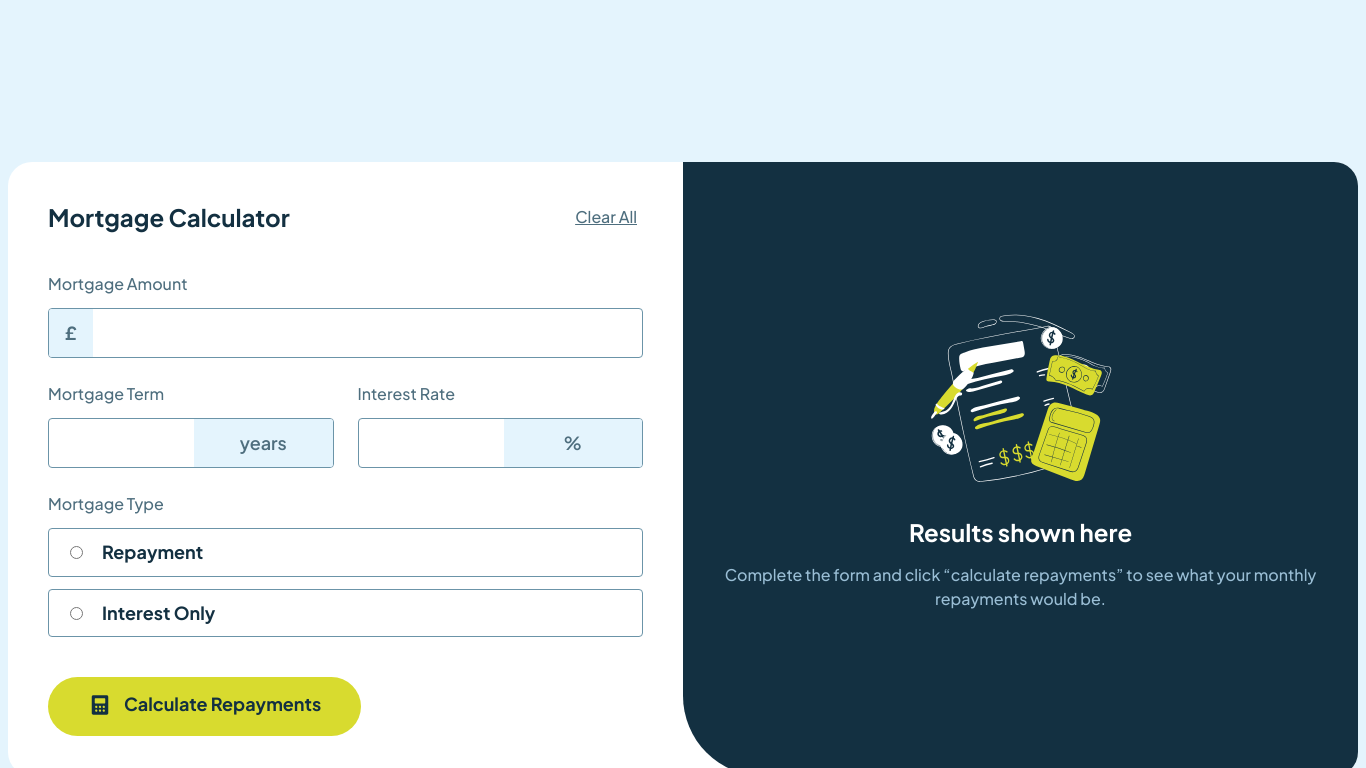
Test: CalculatorComponent › should reset form data
This screenshot has width=1366, height=768.
Type "123" into the number field with test id "calculator-mortgageAmount".
click(368, 333); type("123")  # box [93,322,642,344]
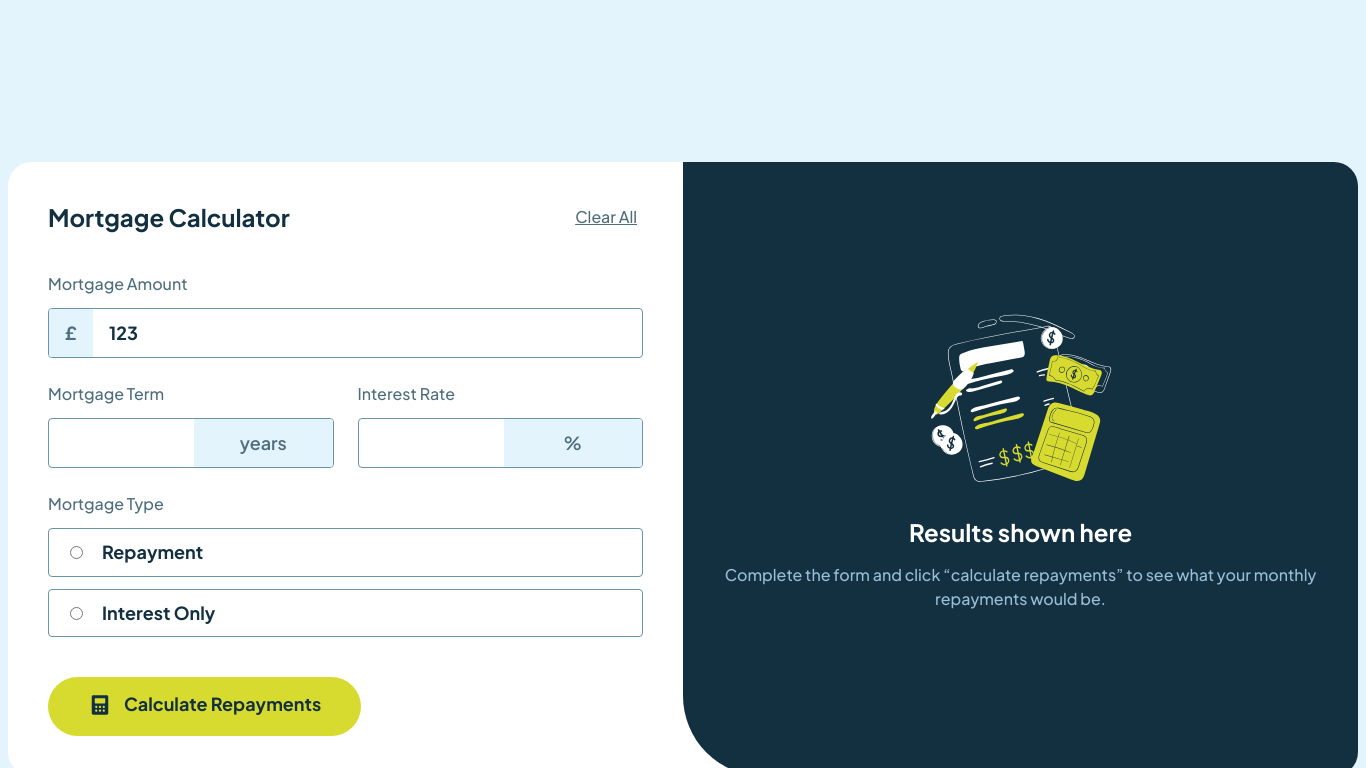
Type "123" into the number field with test id "calculator-mortgageTerm".
click(122, 443); type("123")  # box [49,432,194,454]
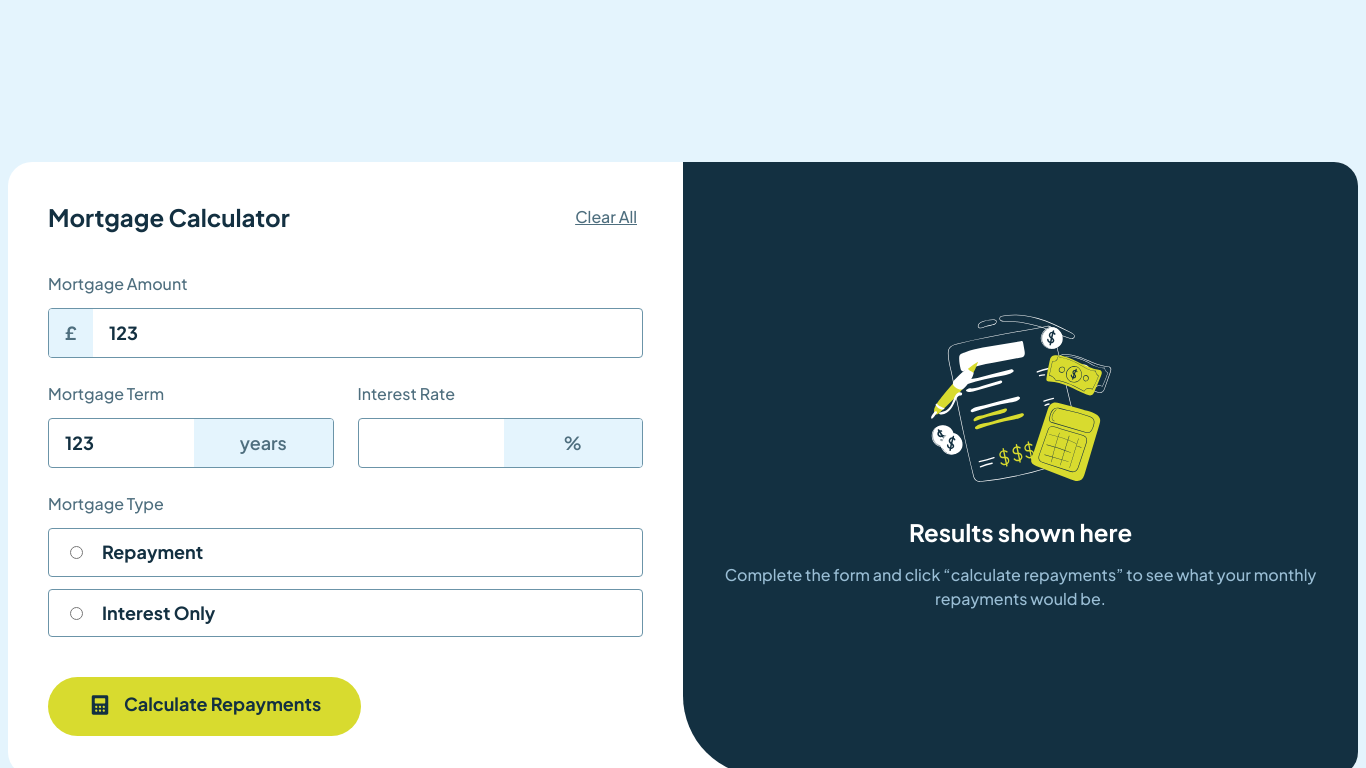
Type "123" into the number field with test id "calculator-interestRate".
click(431, 443); type("123")  # box [358,432,504,454]
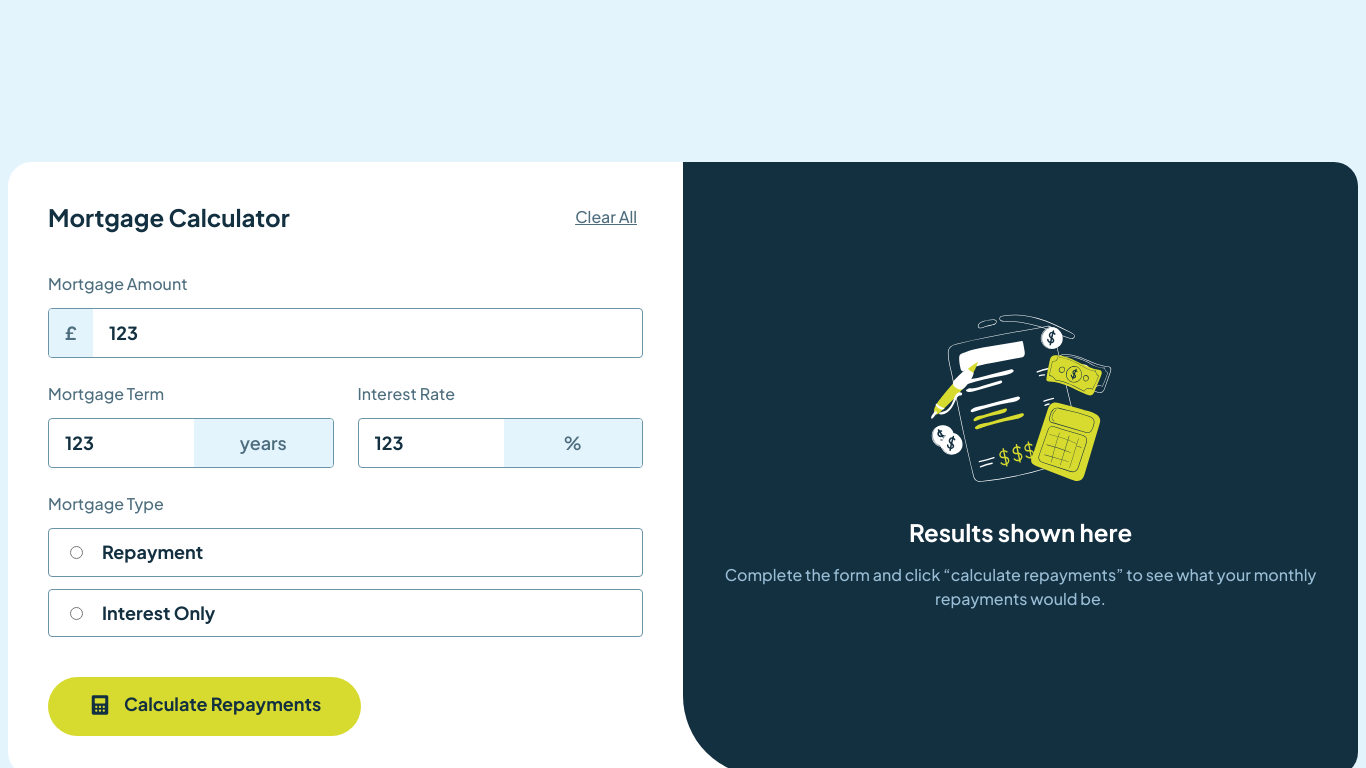
Click the radio button with test id "calculator-mortgageType-repayment".
click(76, 552)  # box [70,546,83,559]
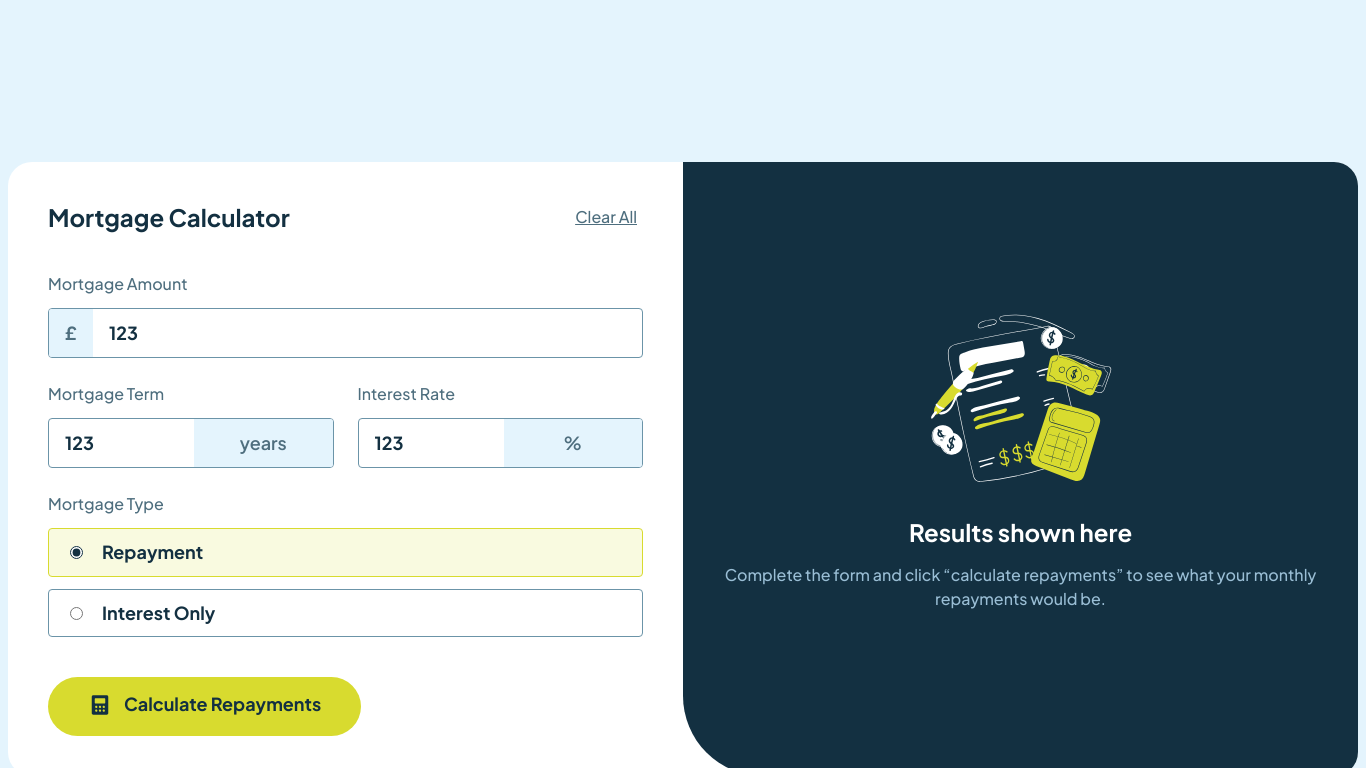
Now the radio button with test id "calculator-mortgageType-repayment" is checked, box [70,546,83,559]
Click the button with test id "calculator-reset-button".
click(606, 217)  # box [569,204,643,230]
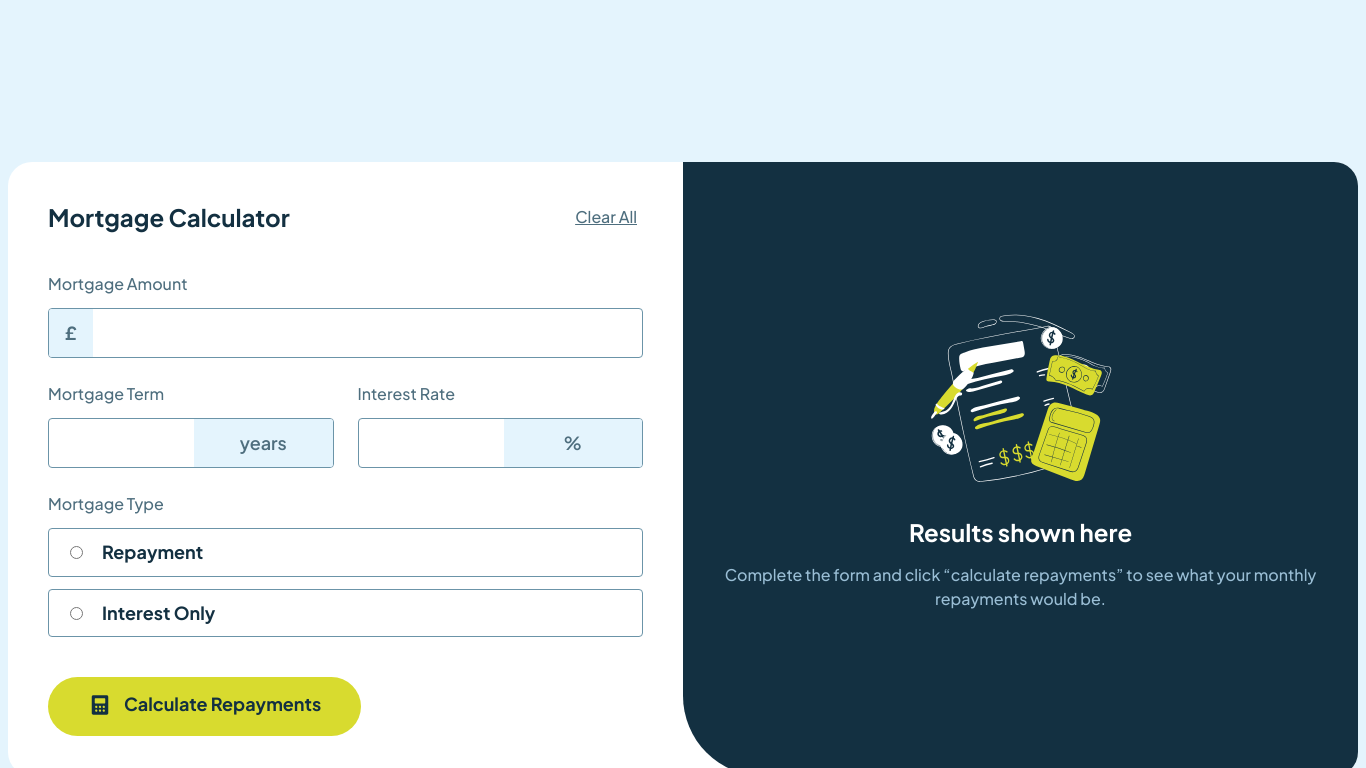
Now the number field with test id "calculator-mortgageAmount" is not empty, box [93,322,642,344]
Now the number field with test id "calculator-mortgageTerm" is not empty, box [49,432,194,454]
Now the number field with test id "calculator-interestRate" is not empty, box [358,432,504,454]
